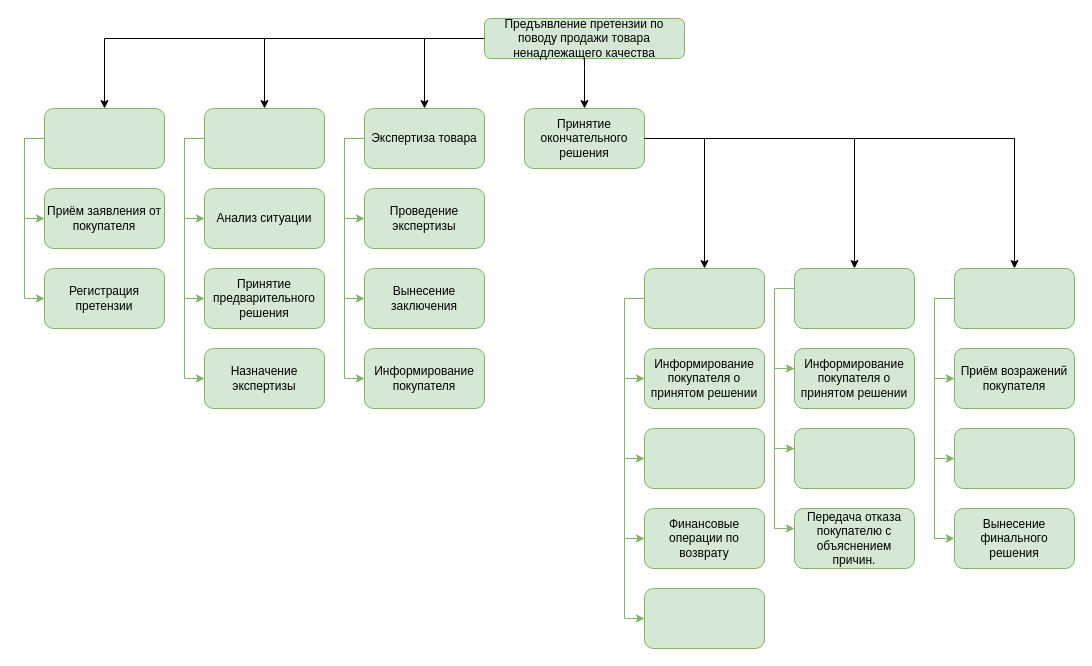
The diagram is 1092 pixels wide and 666 high, and some of its shapes have lost their labels. Here are the shapes that lost their labels. From the top down, the centre of each, then its label:
the point at 104,138: Подача претензии
the point at 264,138: Рассмотрение претензии
the point at 704,298: Исполнение решения (Возврат средств/замена товара)
the point at 854,298: Исполнение решения (Отказ в возврате)
the point at 1014,298: Оспавривание результата экспертизы
the point at 704,458: Подготовка к возврату / обмену
the point at 854,458: Формирование официального письма покупателю
the point at 1014,458: Оценка обоснованности претензий покупателя
the point at 704,618: Возврат средств или замена товара
